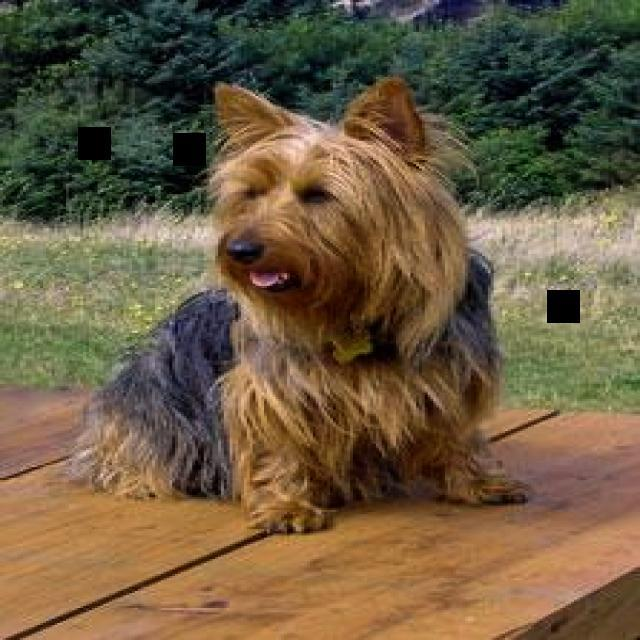adult_dog: (70, 75, 537, 532)
